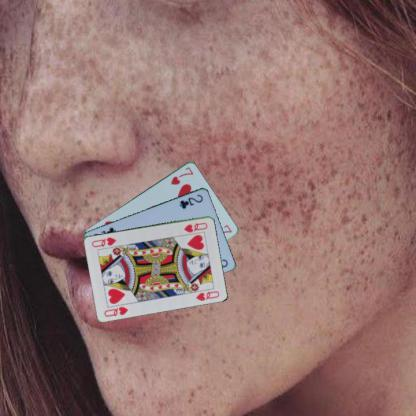2c: (177, 191, 204, 210)
7h: (168, 164, 195, 186)
Qh: (182, 219, 209, 234), (102, 304, 129, 318)
